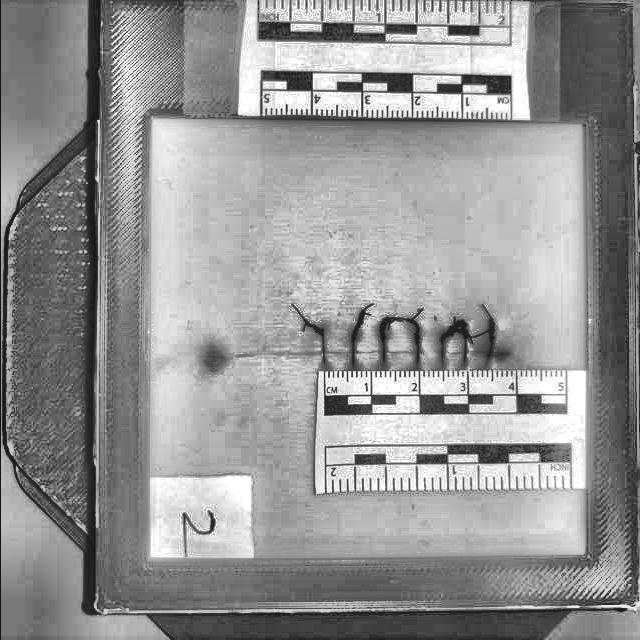incision_line: (210, 348, 495, 362)
scale_marker: (324, 371, 369, 396)
suture_d: (323, 348, 353, 356), (384, 348, 416, 354), (352, 349, 382, 355), (418, 348, 442, 354), (465, 350, 489, 354), (444, 350, 464, 354)
suture_l: (486, 332, 494, 356), (463, 332, 470, 354), (320, 330, 327, 352), (439, 335, 447, 354), (350, 334, 358, 352), (380, 334, 386, 354), (414, 338, 418, 353)
suture_r: (349, 352, 357, 368), (460, 352, 470, 364), (412, 352, 421, 364), (484, 352, 492, 364), (379, 352, 386, 364), (321, 352, 326, 364), (440, 352, 446, 362)
